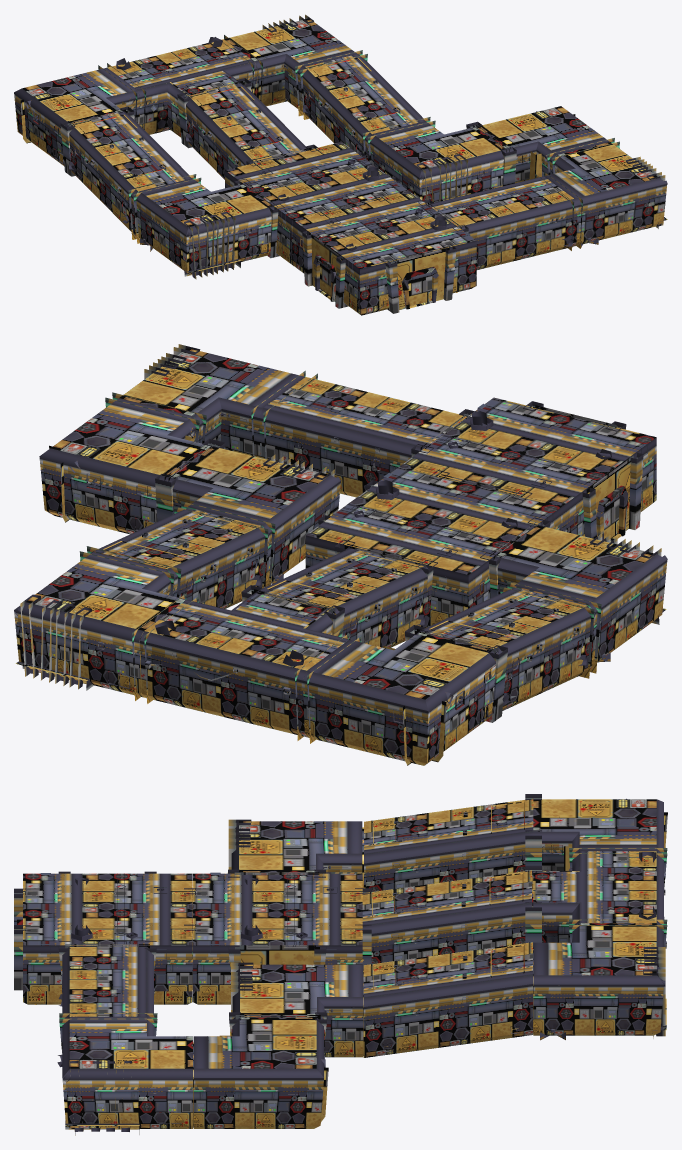
File: Combined_Mesh_root_scene__6_2d4a9e78__zombies2_diffuse_04_b80f3c78_c1f257.obj
The picture shows the model from 3 angles, top to bottom: view 1: azimuth 30°, elevation 25°; view 2: azimuth 150°, elevation 25°; view 3: azimuth 270°, elevation 25°; orthographic projection. The views are drawn at different scales.
Size of the model in its own units: 71.92 by 12.27 by 77.15.
Materials: 202 (202 with a texture image).
